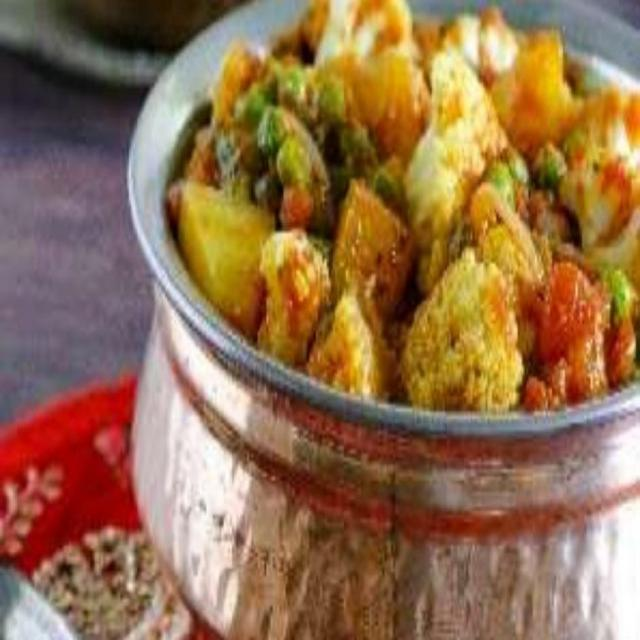Aloo Gobi: (168, 0, 640, 430)
